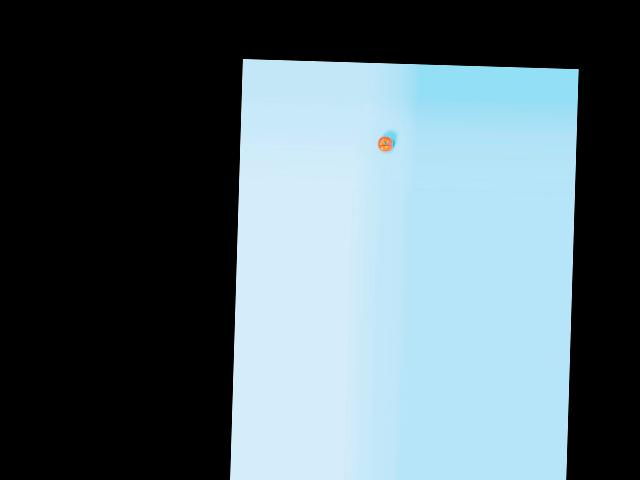tomato: (377, 135, 393, 151)
